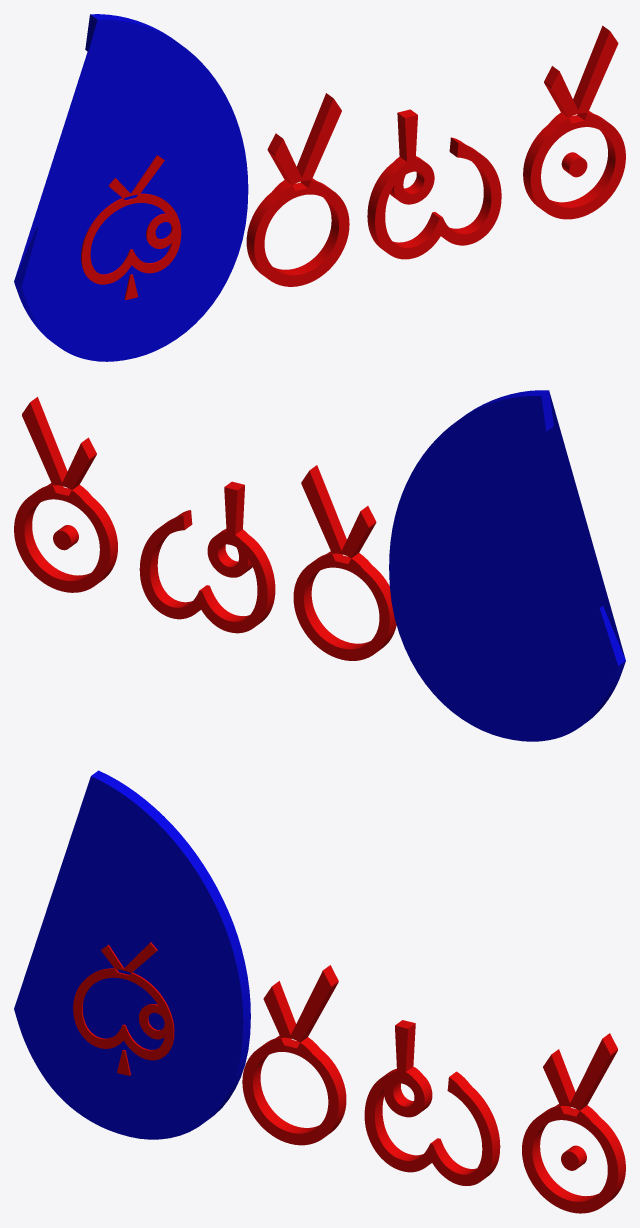
File: Text_sign_20.fbx
3 views of the same model, one above another, from view 1: azimuth 30°, elevation 25°; view 2: azimuth 150°, elevation 25°; view 3: azimuth 330°, elevation 25° (orthographic).
Parts seen in each view (by area): view 1: Text_sign_20; view 2: Text_sign_20; view 3: Text_sign_20.
Boxes of the visible parts, bbox=[...] form: Text_sign_20: bbox=[14, 14, 625, 361]; Text_sign_20: bbox=[14, 390, 625, 741]; Text_sign_20: bbox=[14, 770, 625, 1213].
Size of the model in its own units: 115 by 63.55 by 3.63.
